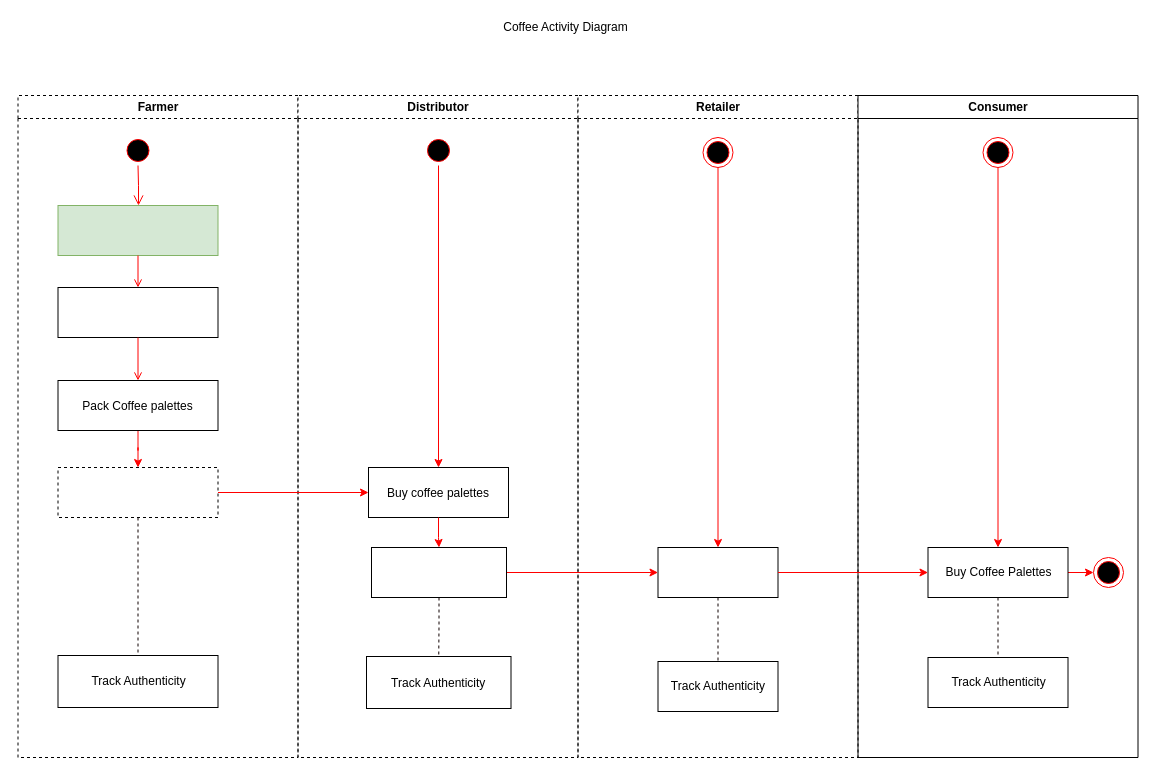
The diagram is 1155 pixels wide and 775 high, and some of its shapes have lost their labels. The shapes that lost their labels are listed below. From the top down, each one's centre as x and y in pixels, then its label:
At [137,230]: "harvest Coffee beans".
At [137,312]: "Process Coffee beans".
At [137,492]: "Add coffee palettes".
At [438,572]: "ship coffee palettes".
At [717,572]: "recieve coffee palettes".
